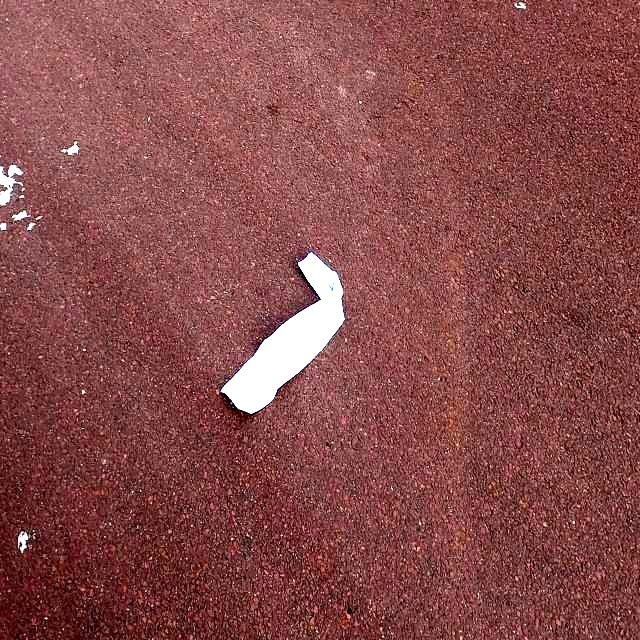Paper: (218, 251, 348, 415)
